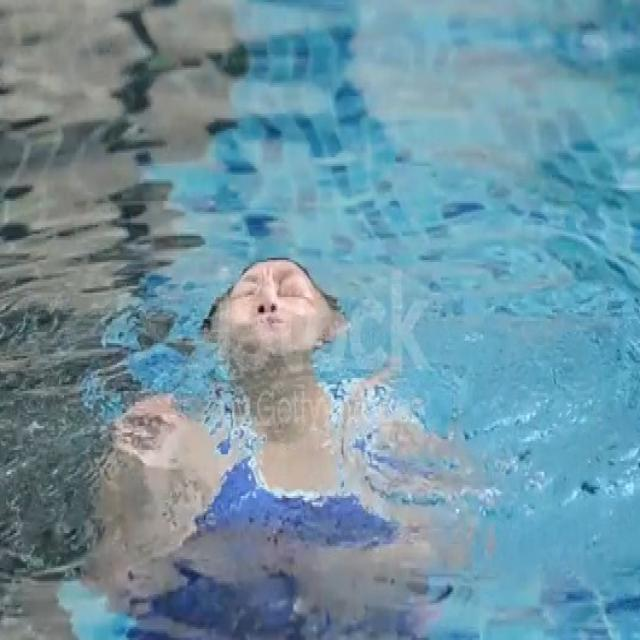Drowning: (92, 248, 474, 493)
